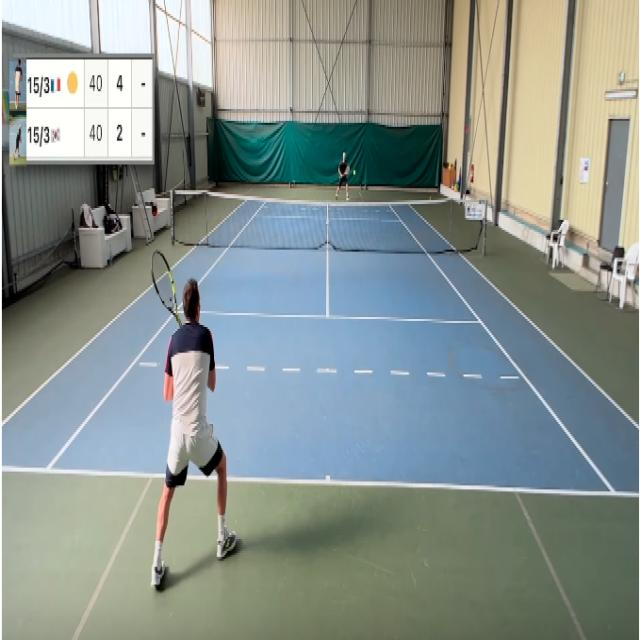ball: (354, 170, 356, 174)
